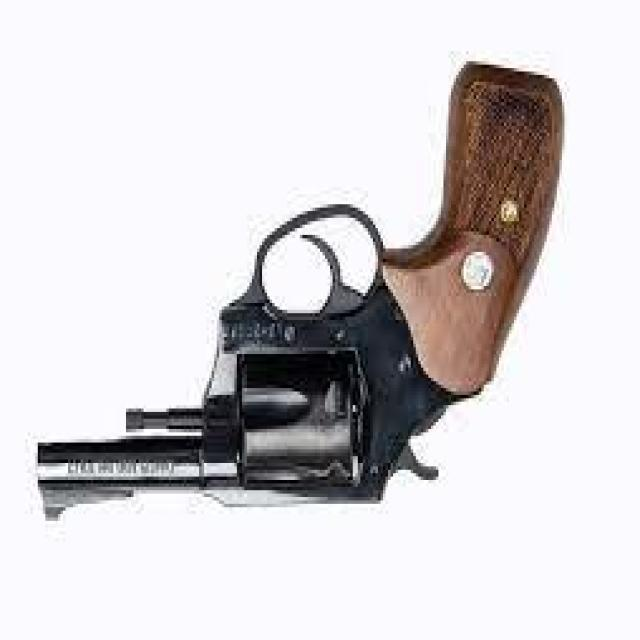Gun: (5, 56, 578, 548)
